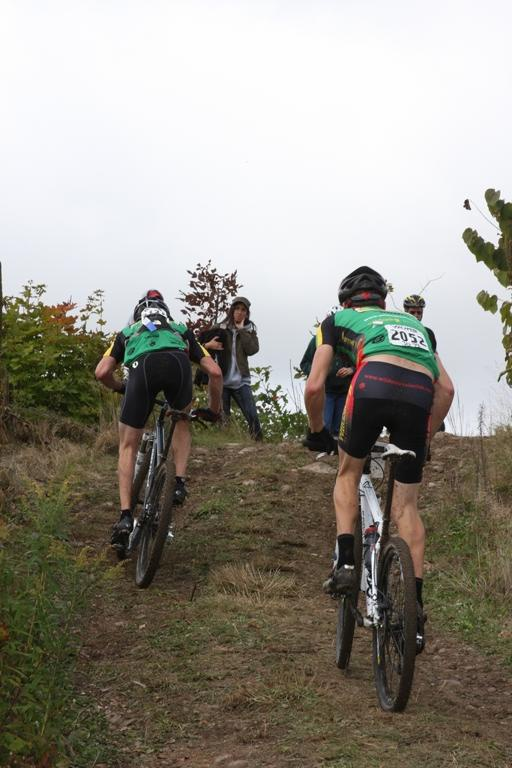non-vehicle: (302, 433, 433, 711), (105, 387, 217, 589)
